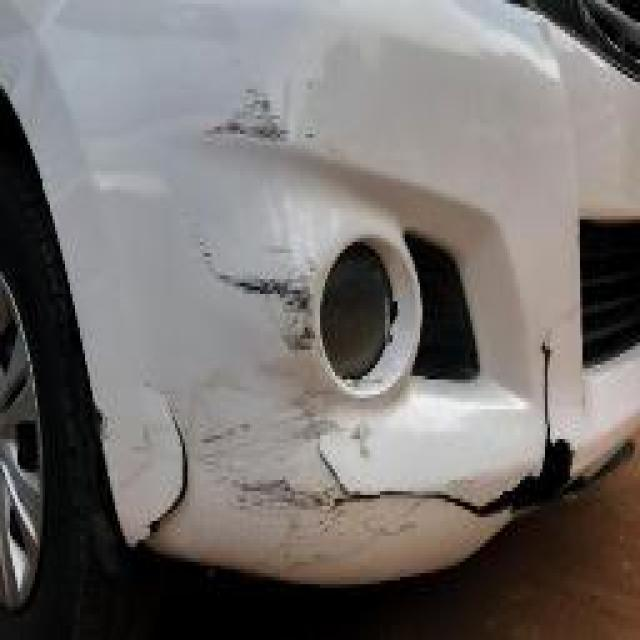Bumper: (115, 7, 585, 558)
